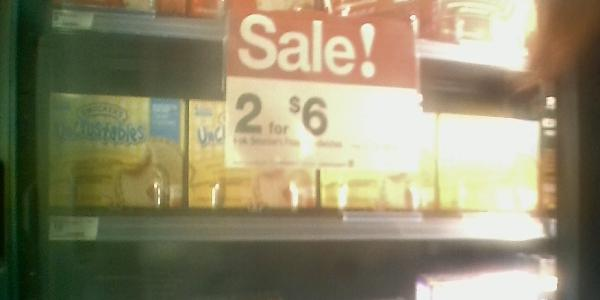icecream: (49, 93, 186, 211), (189, 99, 320, 214), (318, 107, 439, 220), (440, 113, 537, 211)
